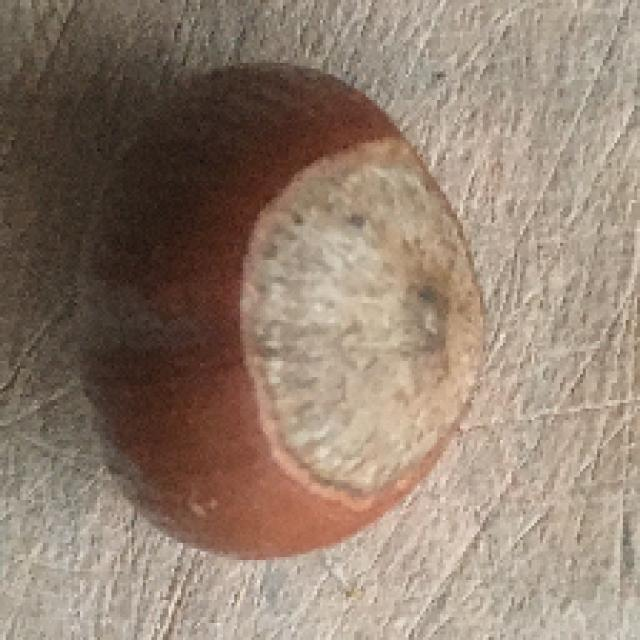qualityHazelnut: (66, 53, 496, 570)
